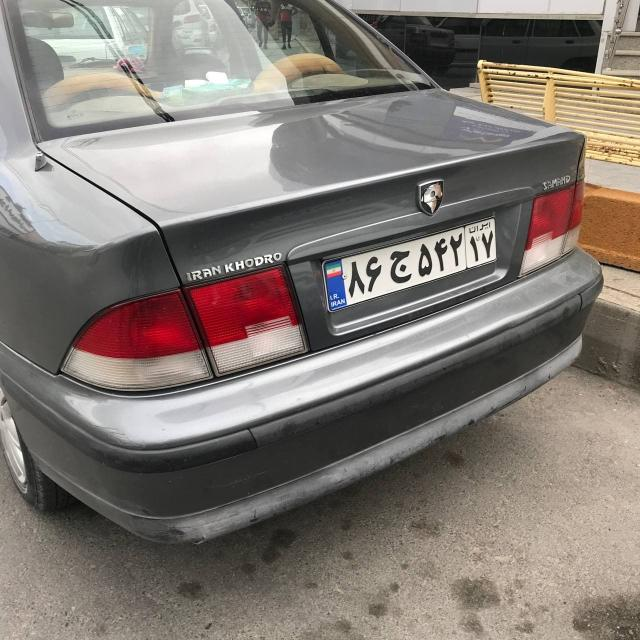Plates: (315, 210, 507, 312)
